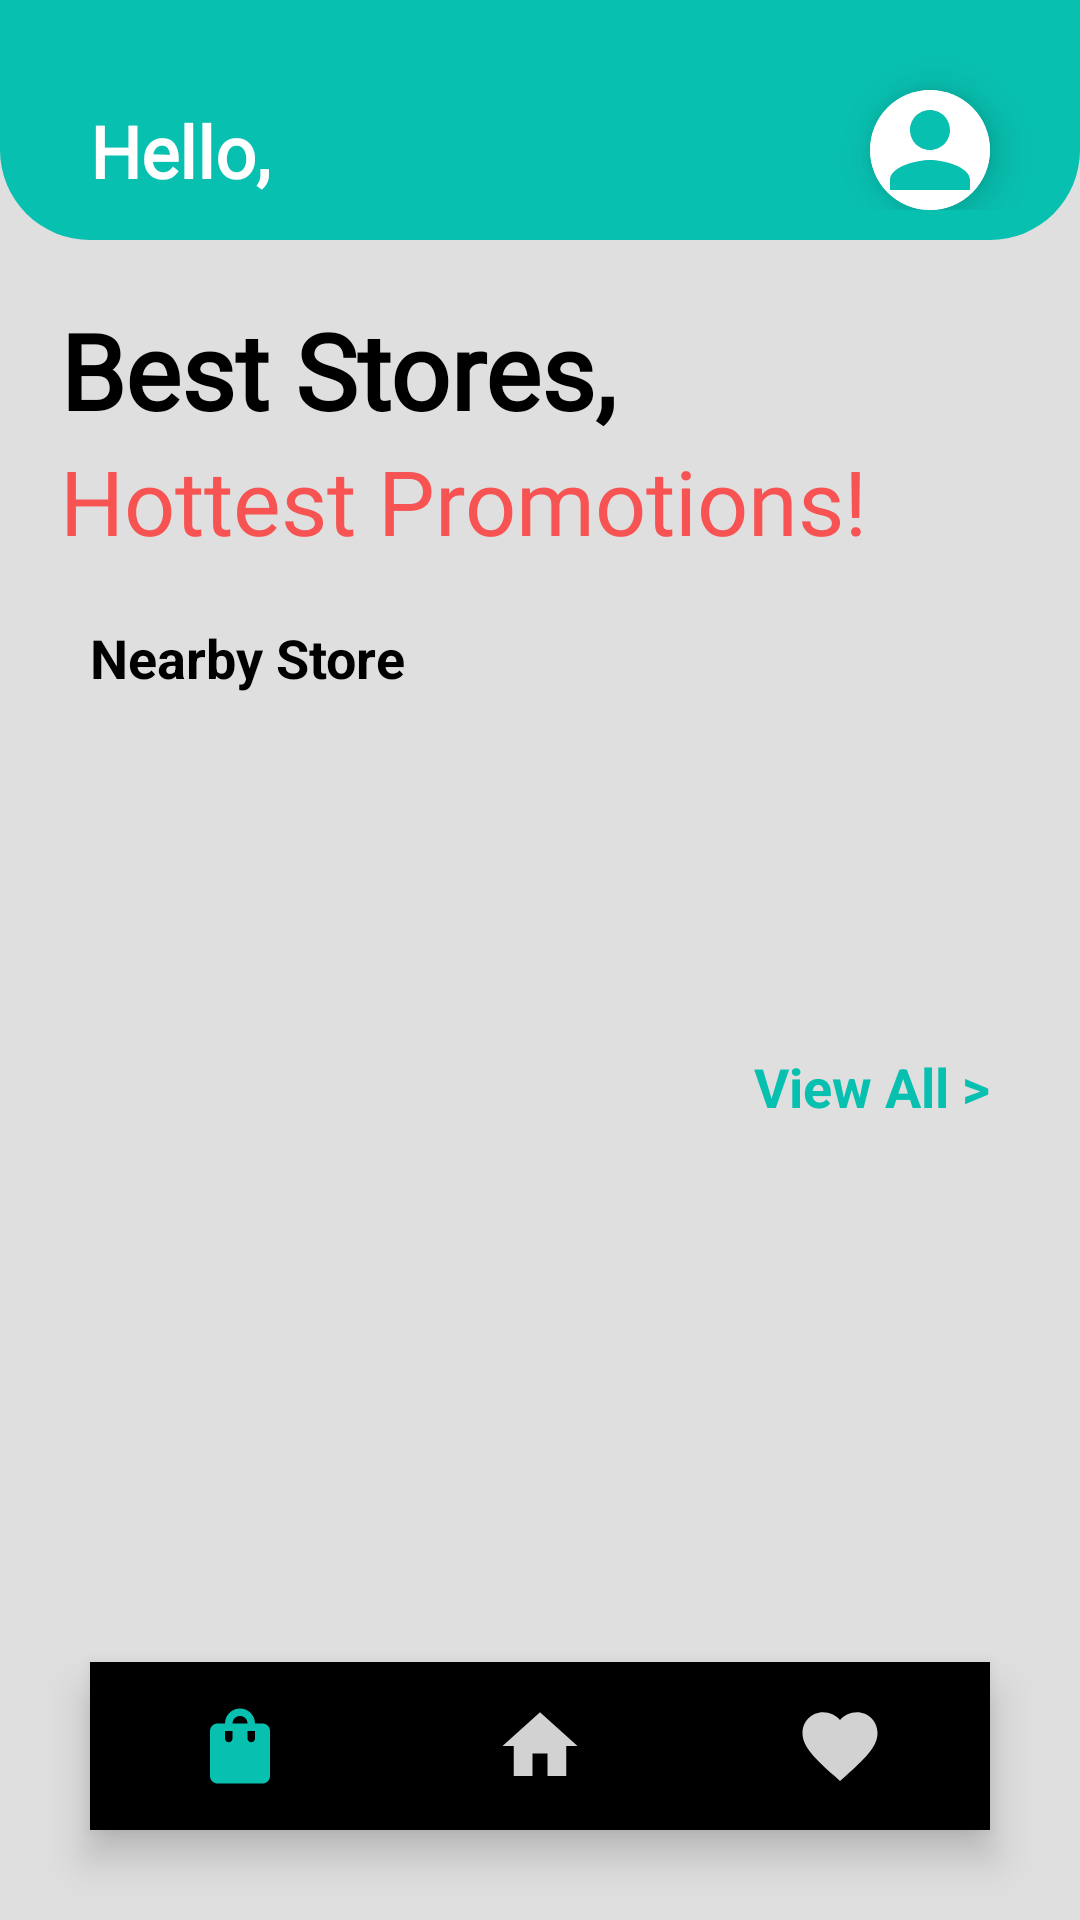

Icon bounding boxes for this 1080w x 1920h phone screenshot, format bbox=(x1, y1, x2, y2):
person: bbox=(870, 90, 990, 210)
